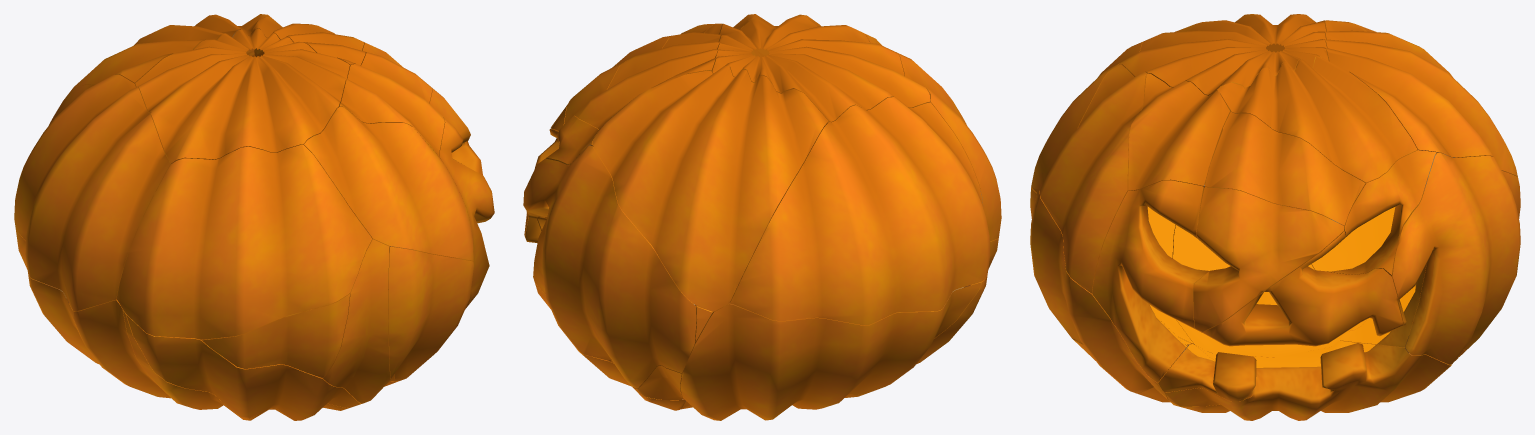
The model's file is pumpkin_pieces_small.glb.
The picture shows the model from 3 angles, left to right: view 1: azimuth 30°, elevation 25°; view 2: azimuth 150°, elevation 25°; view 3: azimuth 270°, elevation 25°; orthographic projection. The views are drawn at different scales.
Visible parts, largest first — view 1: Object_2_cell.006, Object_2_cell.012, Object_2_cell.016, Object_2_cell.019, Object_2_cell, Object_2_cell.021, Object_2_cell.014, Object_2_cell.005, Object_2_cell.003, Object_2_cell.013, Object_2_cell.008, Object_2_cell.020 (+5 smaller); view 2: Object_2_cell.012, Object_2_cell.013, Object_2_cell.004, Object_2_cell.002, Object_2_cell.016, Object_2_cell.011, Object_2_cell.006, Object_2_cell.001, Object_2_cell.010, Object_2_cell.008, Object_2_cell.015; view 3: Object_2_cell.004, Object_2_cell.020, Object_2_cell.011, Object_2_cell.013, Object_2_cell.015, Object_2_cell.019, Object_2_cell.018, Object_2_cell.023, Object_2_cell.016, Object_2_cell.010, Object_2_cell.003, Object_2_cell.021 (+8 smaller).
Part boxes in pixels (<box>): Object_2_cell.006: <box>116,144,372,339</box>; Object_2_cell.012: <box>14,74,170,310</box>; Object_2_cell.016: <box>135,28,349,164</box>; Object_2_cell.019: <box>304,107,473,261</box>; Object_2_cell: <box>126,314,360,420</box>; Object_2_cell.021: <box>388,246,473,381</box>; Object_2_cell.014: <box>323,239,395,403</box>; Object_2_cell.005: <box>202,294,349,377</box>; Object_2_cell.003: <box>339,64,444,158</box>; Object_2_cell.013: <box>74,14,269,86</box>; Object_2_cell.008: <box>73,299,170,398</box>; Object_2_cell.020: <box>439,117,494,304</box>; Object_2_cell.012: <box>730,97,990,325</box>; Object_2_cell.013: <box>592,65,828,311</box>; Object_2_cell.004: <box>523,145,696,388</box>; Object_2_cell.002: <box>680,282,981,420</box>; Object_2_cell.016: <box>712,16,930,122</box>; Object_2_cell.011: <box>574,23,721,131</box>; Object_2_cell.006: <box>865,34,1001,241</box>; Object_2_cell.001: <box>537,115,714,399</box>; Object_2_cell.010: <box>564,35,675,124</box>; Object_2_cell.008: <box>792,274,987,408</box>; Object_2_cell.015: <box>535,283,685,410</box>; Object_2_cell.004: <box>1392,152,1520,364</box>; Object_2_cell.020: <box>1092,180,1209,382</box>; Object_2_cell.011: <box>1218,57,1417,182</box>; Object_2_cell.013: <box>1325,20,1517,176</box>; Object_2_cell.015: <box>1165,340,1458,420</box>; Object_2_cell.019: <box>1040,64,1146,293</box>; Object_2_cell.018: <box>1193,187,1344,331</box>; Object_2_cell.023: <box>1201,231,1402,346</box>; Object_2_cell.016: <box>1119,14,1329,95</box>; Object_2_cell.010: <box>1205,112,1365,225</box>; Object_2_cell.003: <box>1128,73,1230,190</box>; Object_2_cell.021: <box>1030,191,1191,399</box>.
Bounding box in the file's own units: 0.7132 × 0.5463 × 0.7132.
2 materials, 1 textured.
